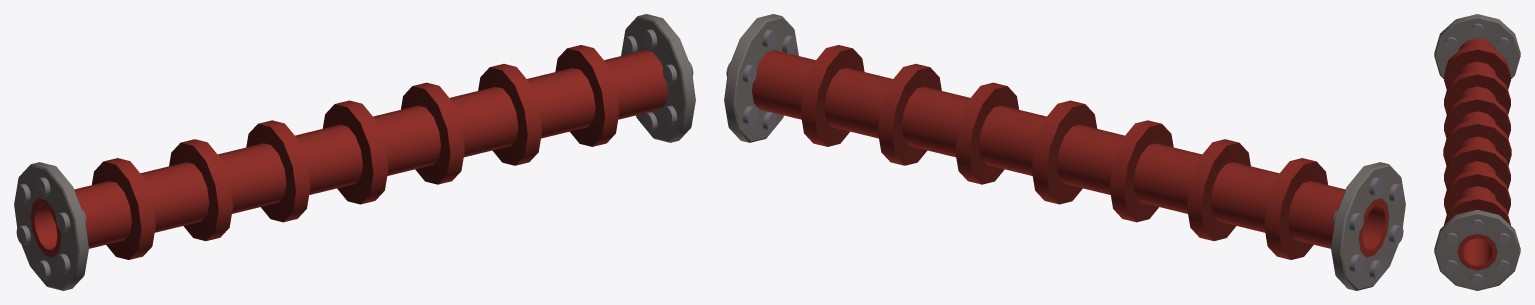
File: Pipe-StraightFixed.fbx
The picture shows the model from 3 angles, left to right: view 1: azimuth 30°, elevation 25°; view 2: azimuth 150°, elevation 25°; view 3: azimuth 270°, elevation 25°; orthographic projection. The views are drawn at different scales.
Visible parts, largest first — view 1: Pipe-StraightFixed; view 2: Pipe-StraightFixed; view 3: Pipe-StraightFixed.
Boxes of the visible parts, x1,y1,x2,y2 form: Pipe-StraightFixed: [14, 14, 695, 290]; Pipe-StraightFixed: [724, 14, 1405, 290]; Pipe-StraightFixed: [1434, 14, 1520, 290].
Size of the model in its own units: 14.51 by 2.62 by 2.62.
